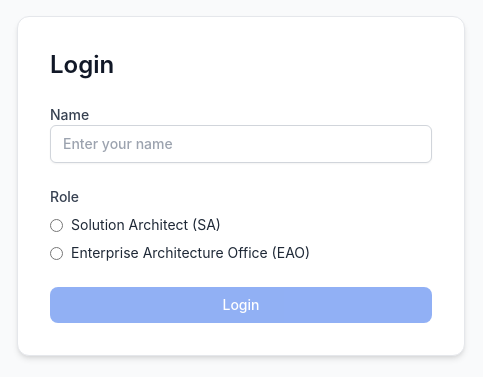
Scenario: Login Component › enables login button when both name and role are provided
Type "John Doe" into the field labelled "Name" at [241, 144], box [50,125,432,163]
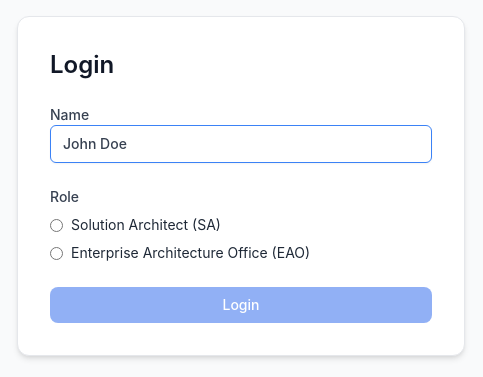
Click the radio button labelled "Solution Architect (SA)" at [56, 225], box [50,218,63,232]
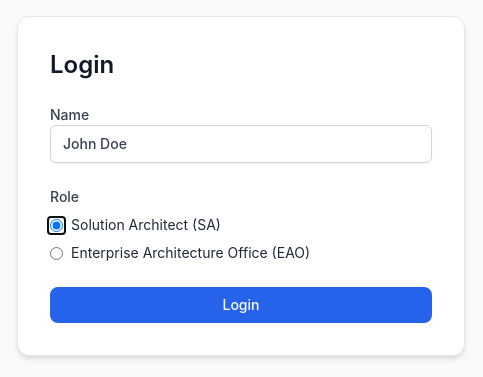
expect the button "Login" is enabled: met, box [50,287,432,323]
